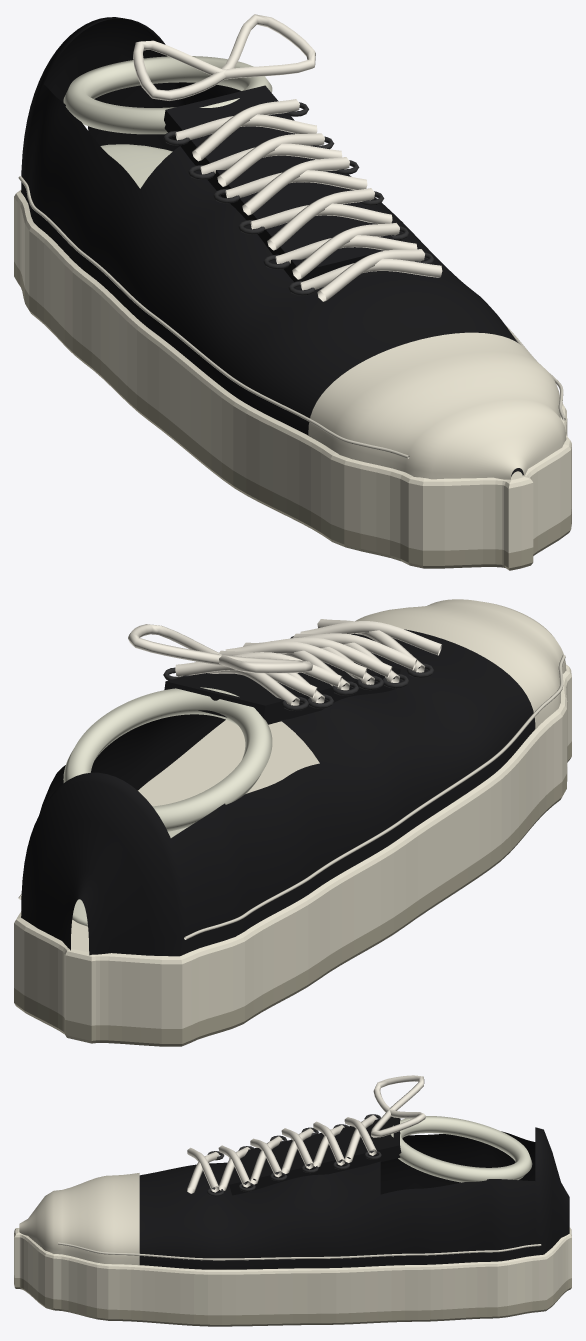
The model's file is converse-black.glb.
The picture shows the model from 3 angles, top to bottom: view 1: azimuth 30°, elevation 25°; view 2: azimuth 150°, elevation 25°; view 3: azimuth 270°, elevation 25°; orthographic projection. The views are drawn at different scales.
Parts seen in each view (by area): view 1: Верх · ткань и форма, Подошва · боковина, Резиновый носок, Шнурки (×12), Язычок, Подошва · протектор, Воротник и подкладка, Бант шнурков, Шов боковины, Стелька · условная форма; view 2: Верх · ткань и форма, Подошва · боковина, Подошва · протектор, Резиновый носок, Воротник и подкладка, Шнурки (×8), Язычок, Бант шнурков, Шов боковины; view 3: Верх · ткань и форма, Подошва · боковина, Резиновый носок, Подошва · протектор, Шнурки (×12), Воротник и подкладка, Язычок, Бант шнурков, Шов боковины.
Part boxes in pixels (<box>): Верх · ткань и форма: <box>21,17,523,476</box>; Подошва · боковина: <box>14,190,571,552</box>; Резиновый носок: <box>308,332,566,479</box>; Шнурки (×12): <box>175,99,442,301</box>; Язычок: <box>164,85,394,281</box>; Подошва · протектор: <box>14,262,571,570</box>; Воротник и подкладка: <box>63,56,272,134</box>; Бант шнурков: <box>133,14,315,100</box>; Шов боковины: <box>18,176,409,458</box>; Стелька · условная форма: <box>100,144,172,188</box>; Верх · ткань и форма: <box>21,629,535,956</box>; Подошва · боковина: <box>14,664,571,1028</box>; Подошва · протектор: <box>14,741,571,1046</box>; Резиновый носок: <box>355,599,566,729</box>; Воротник и подкладка: <box>63,687,272,831</box>; Шнурки (×8): <box>175,619,442,705</box>; Язычок: <box>164,661,400,724</box>; Бант шнурков: <box>128,624,312,673</box>; Шов боковины: <box>184,655,565,939</box>; Верх · ткань и форма: <box>139,1127,569,1269</box>; Подошва · боковина: <box>14,1227,571,1315</box>; Резиновый носок: <box>19,1173,139,1265</box>; Подошва · протектор: <box>14,1275,571,1326</box>; Шнурки (×12): <box>187,1115,376,1193</box>; Воротник и подкладка: <box>391,1116,532,1182</box>; Язычок: <box>229,1116,401,1195</box>; Бант шнурков: <box>371,1075,426,1137</box>; Шов боковины: <box>58,1242,541,1260</box>.
Bounding box in the file's own units: 1.02 × 1.13 × 2.92.
